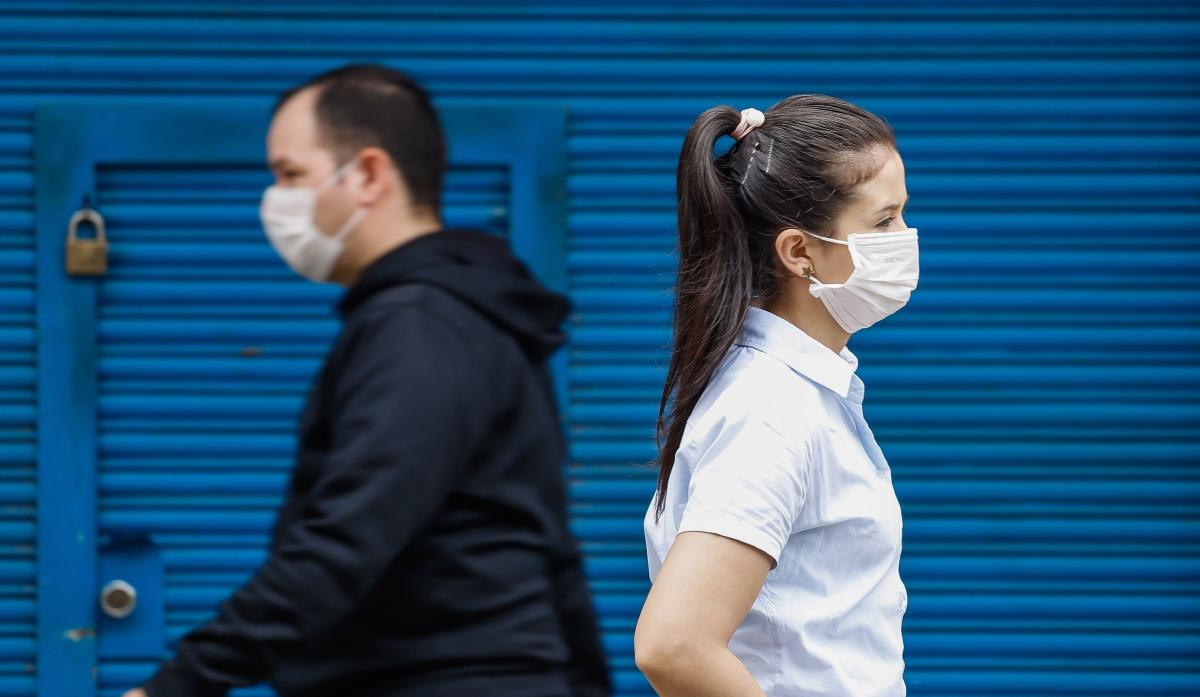with_mask: (731, 128, 931, 330), (249, 88, 457, 282)
